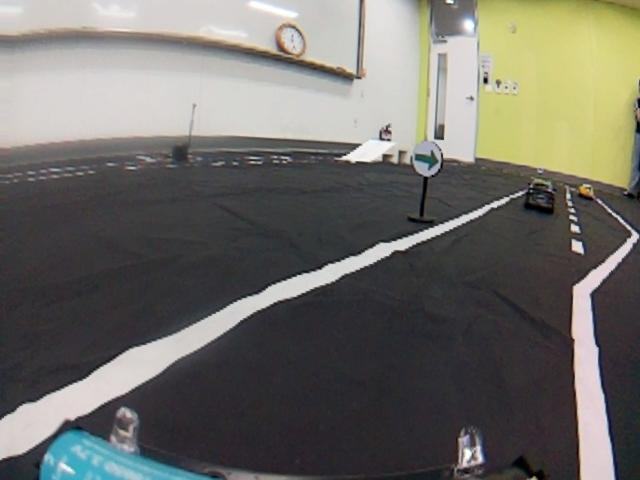car: (524, 181, 559, 217), (578, 182, 596, 197)
sign_right: (410, 137, 446, 181)
straight: (0, 176, 640, 480)
